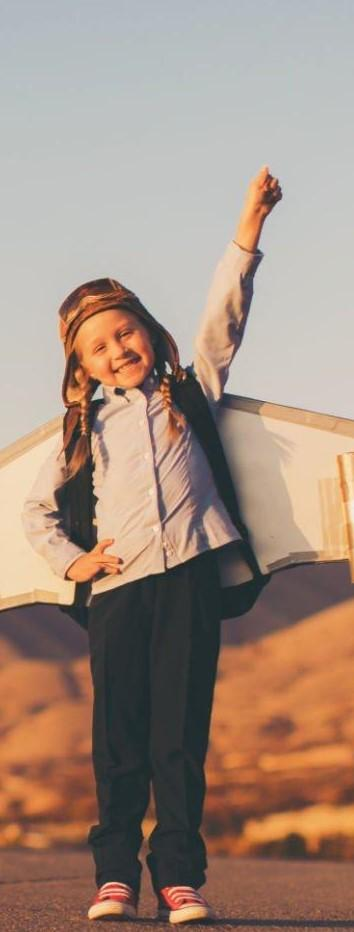Healthy: (33, 271, 188, 415)
